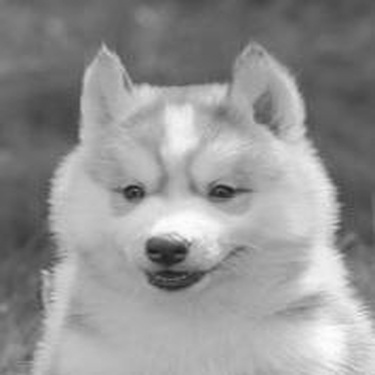dog: (31, 33, 372, 373)
